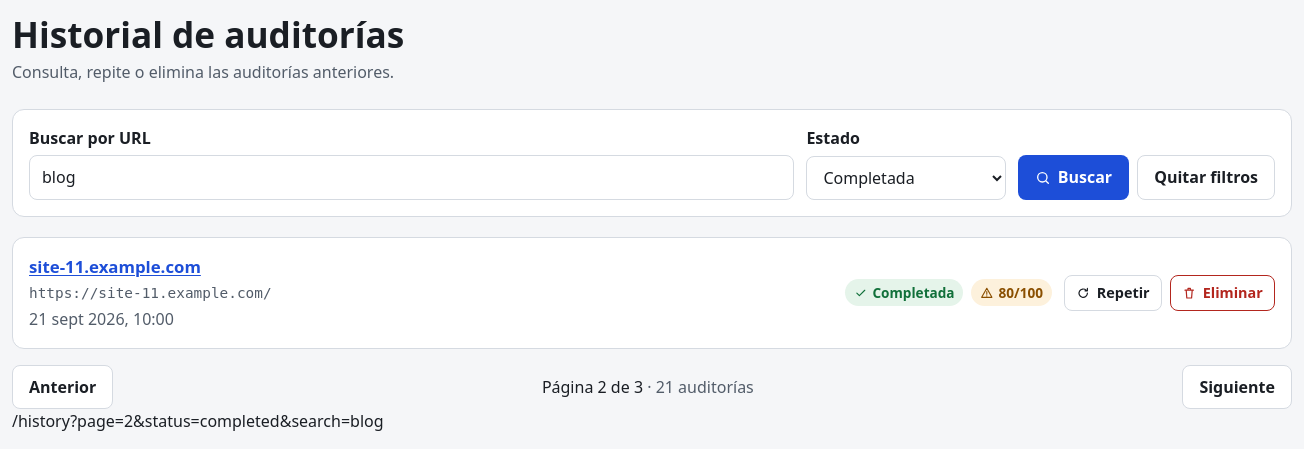
Test: HistoryPage › reads page and filters from the URL and paginates
expect the text "Página 2 de 3" is shown: met, box [542,374,754,399]
expect the search field labelled "Buscar por URL" holds "blog": met, box [29,155,794,200]
Click the button "Siguiente".
click(1237, 387)  # box [1182,365,1292,409]
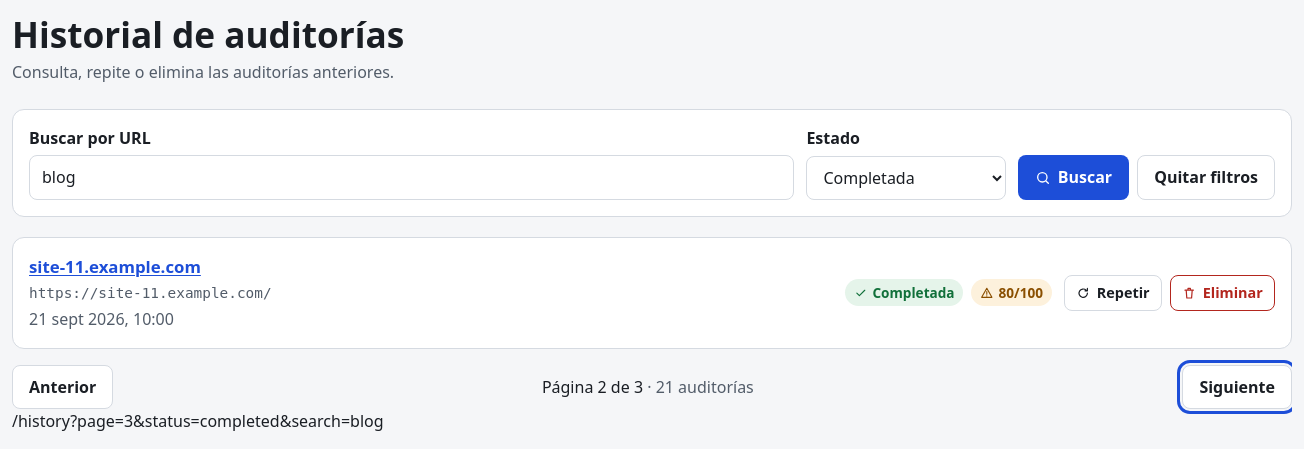
expect the text with test id "location" reads "/history?page=3&status=completed&search=blog": met, box [12,410,384,432]
